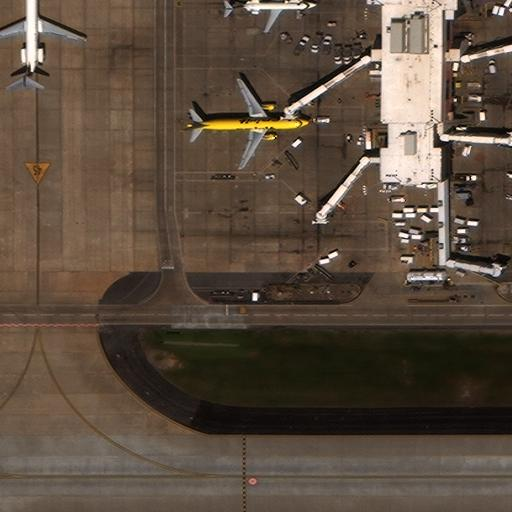Medium Civil Transport: (176, 78, 315, 169), (0, 0, 87, 90), (220, 0, 320, 32)
